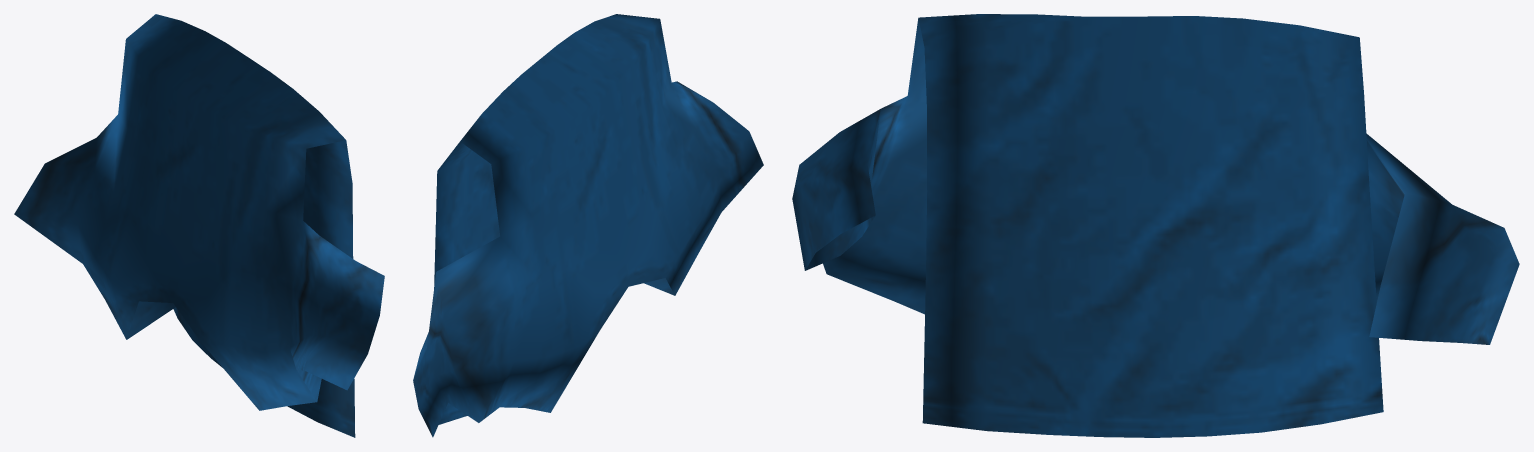
The model's file is shirtBlueHanging.fbx.
3 renders of one model, left to right at view 1: azimuth 30°, elevation 25°; view 2: azimuth 150°, elevation 25°; view 3: azimuth 270°, elevation 25°, orthographic. The views are drawn at different scales.
Parts seen in each view (by area): view 1: shirtBlueHanging; view 2: shirtBlueHanging; view 3: shirtBlueHanging.
Part boxes in pixels (x1,y1,x2,y2): shirtBlueHanging: (14, 14, 384, 437); shirtBlueHanging: (413, 14, 763, 437); shirtBlueHanging: (792, 14, 1519, 437).
Size of the model in its own units: 0.3558 by 0.7945 by 1.32.
1 material, 1 textured.
